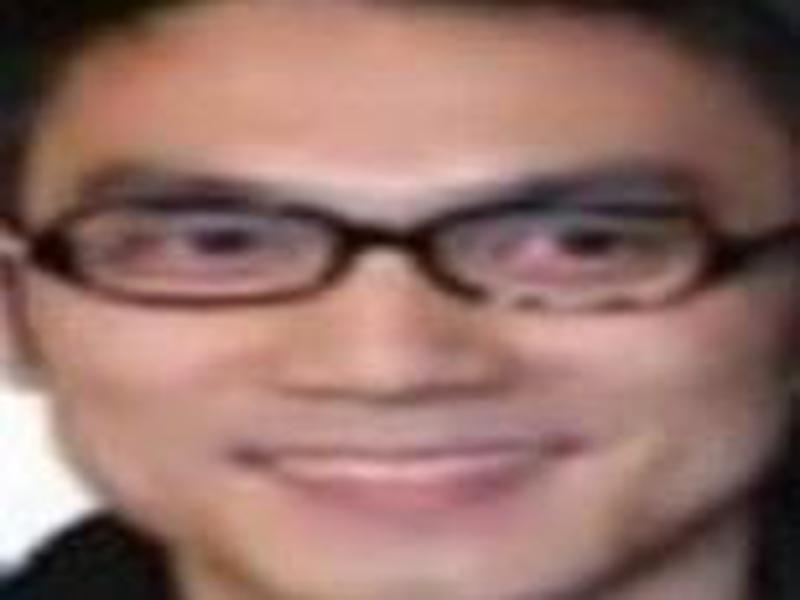without_mask: (29, 18, 774, 600)
